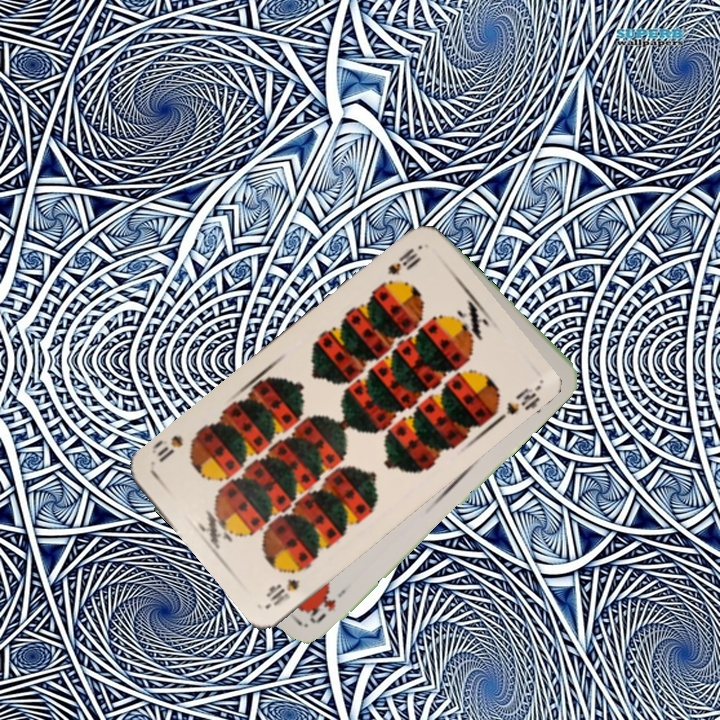HO: (305, 583, 352, 627)
S10: (262, 574, 303, 609), (383, 243, 422, 278)
